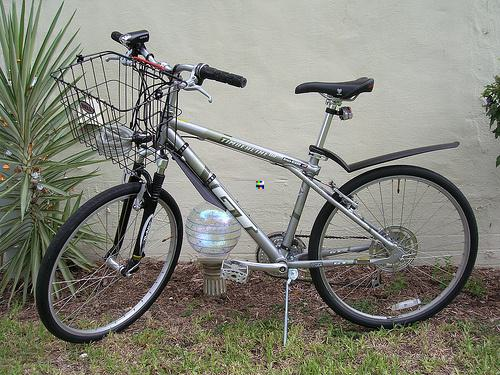car: (35, 25, 485, 346)
